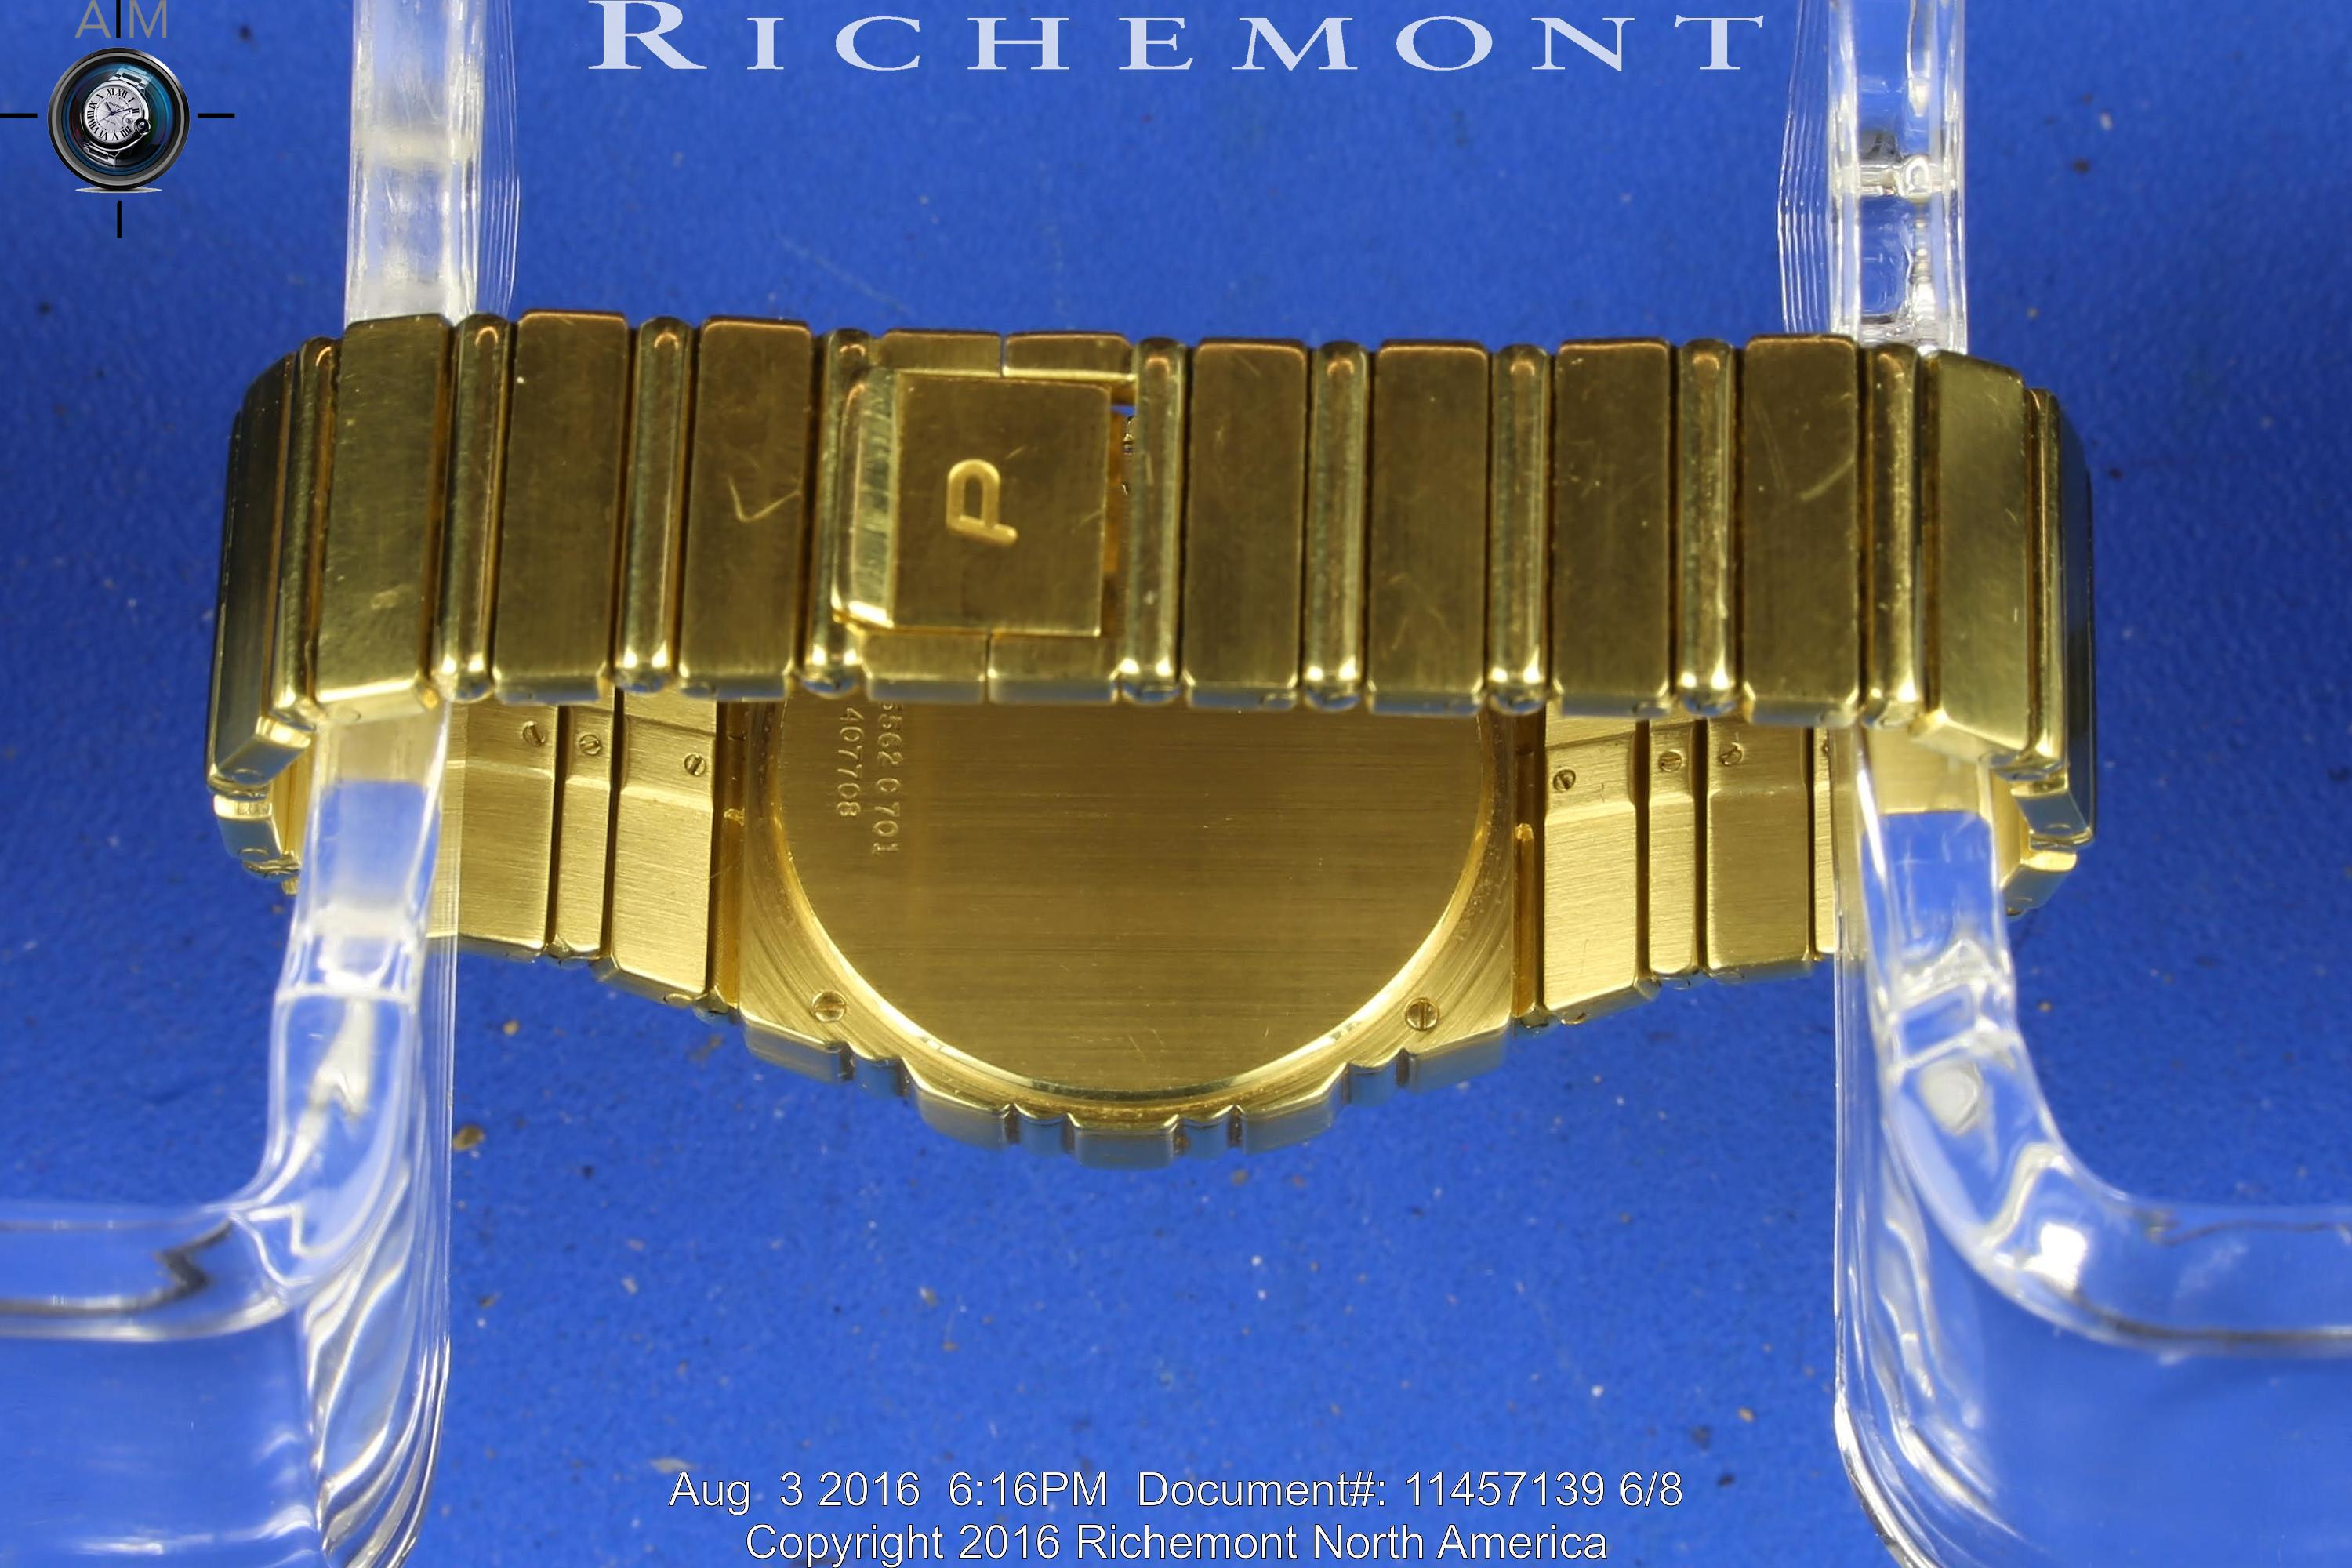Watch BackCase: (737, 698, 1531, 1155)
